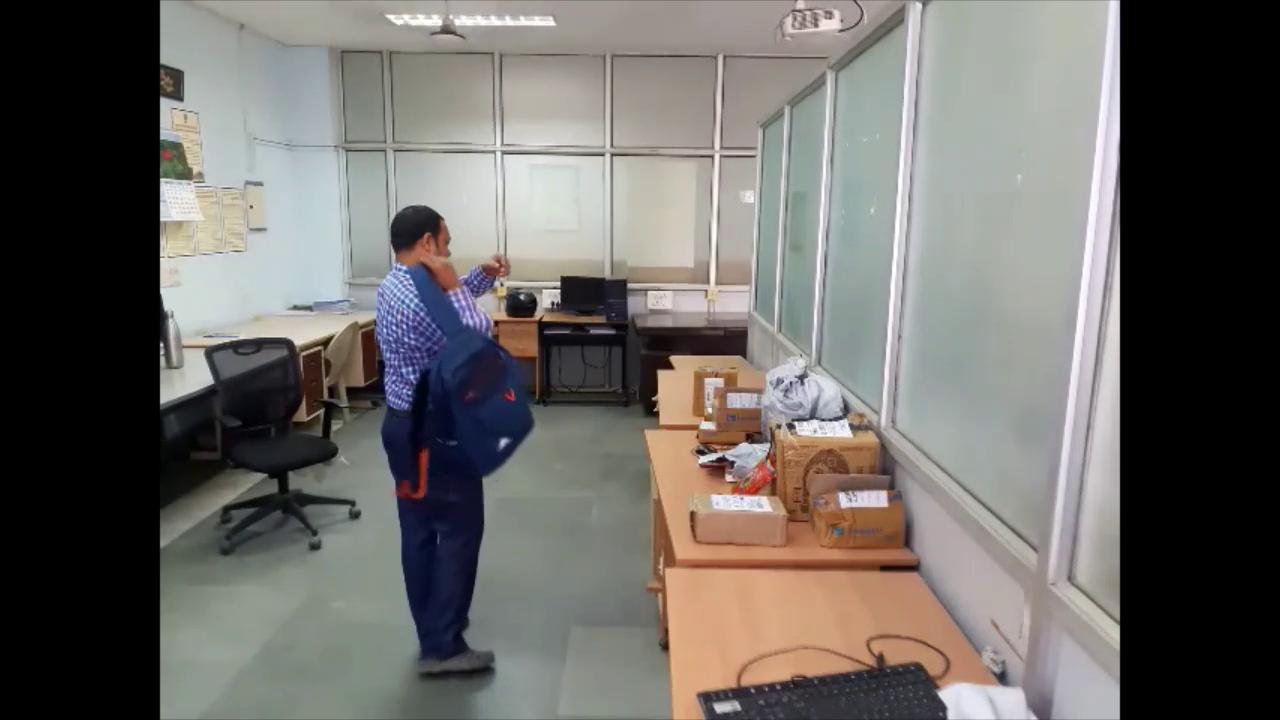shoplifting: (349, 196, 574, 711)
